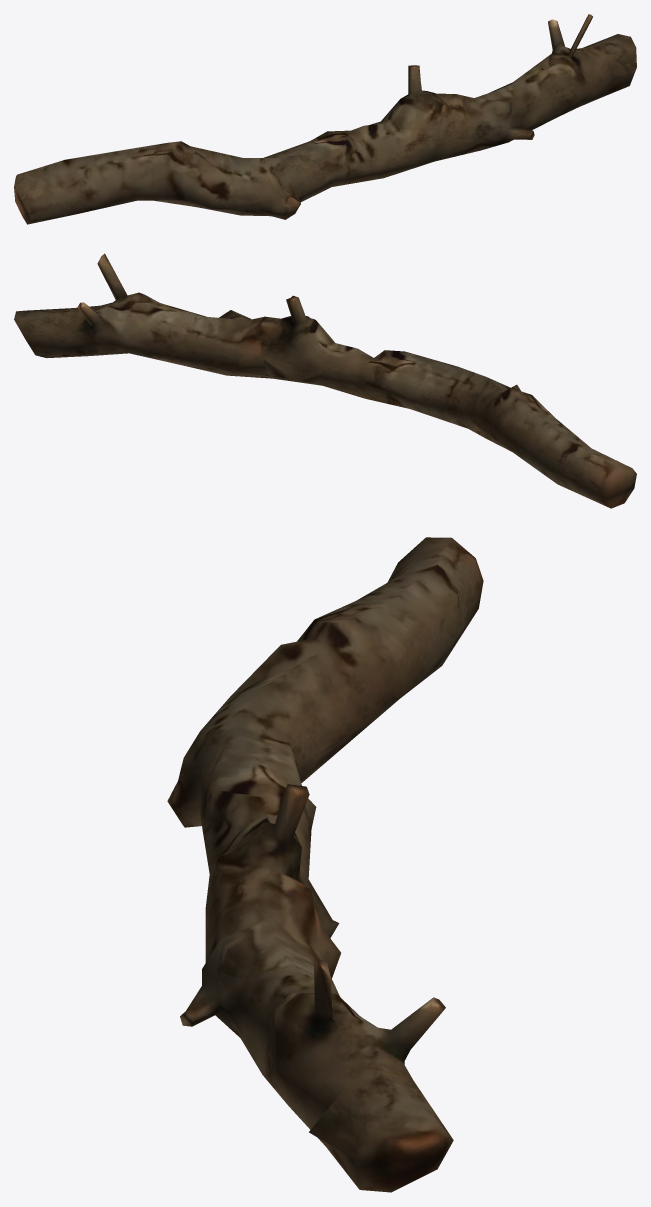
Rendered from club_ground_g.glb.
3 views of the same model, one above another, from view 1: azimuth 30°, elevation 25°; view 2: azimuth 150°, elevation 25°; view 3: azimuth 270°, elevation 25° (orthographic). The views are drawn at different scales.
Visible parts, largest first — view 1: geometry_0; view 2: geometry_0; view 3: geometry_0.
Boxes of the visible parts, bbox=[...] form: geometry_0: bbox=[14, 14, 636, 224]; geometry_0: bbox=[14, 253, 636, 508]; geometry_0: bbox=[167, 537, 483, 1192].
Size of the model in its own units: 0.4025 by 0.0632 by 0.09.
1 material, 1 textured.
